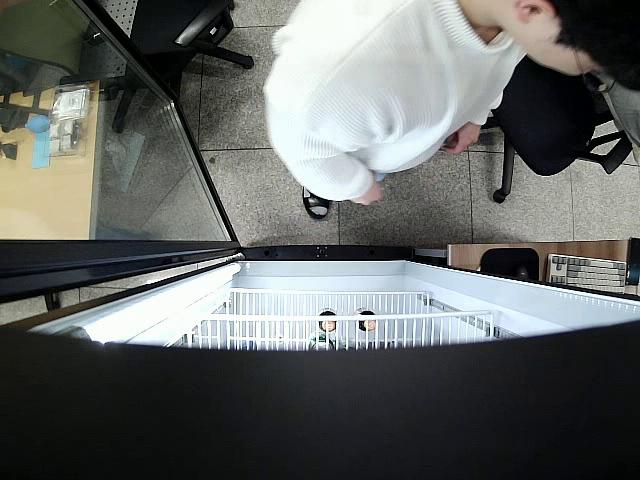00_hand: (440, 121, 480, 155)
